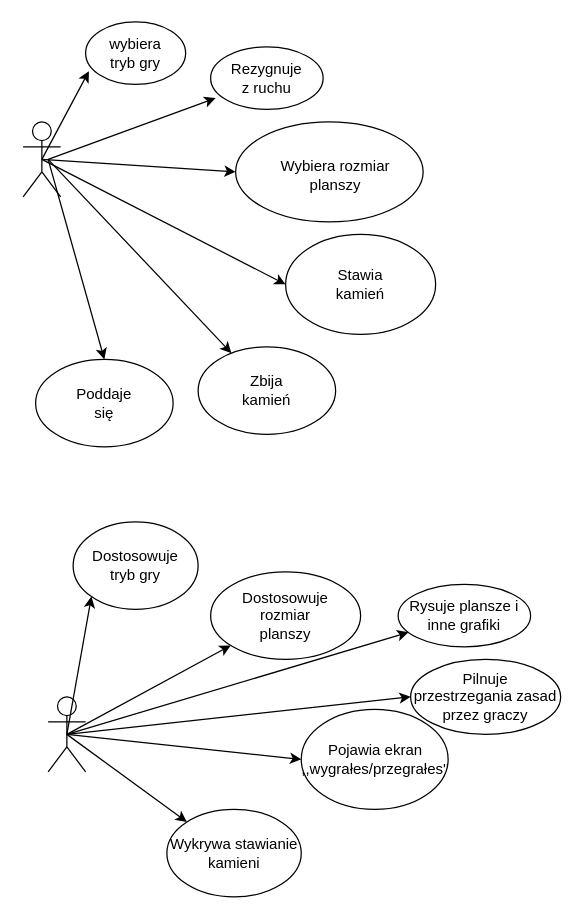
The diagram is 583 pixels wide and 919 high, and some of its shapes have lost their labels. The centre of each missing label's shape, as x and y in pixels:
Gracz: the point at 41,159
Serwer: the point at 66,734
